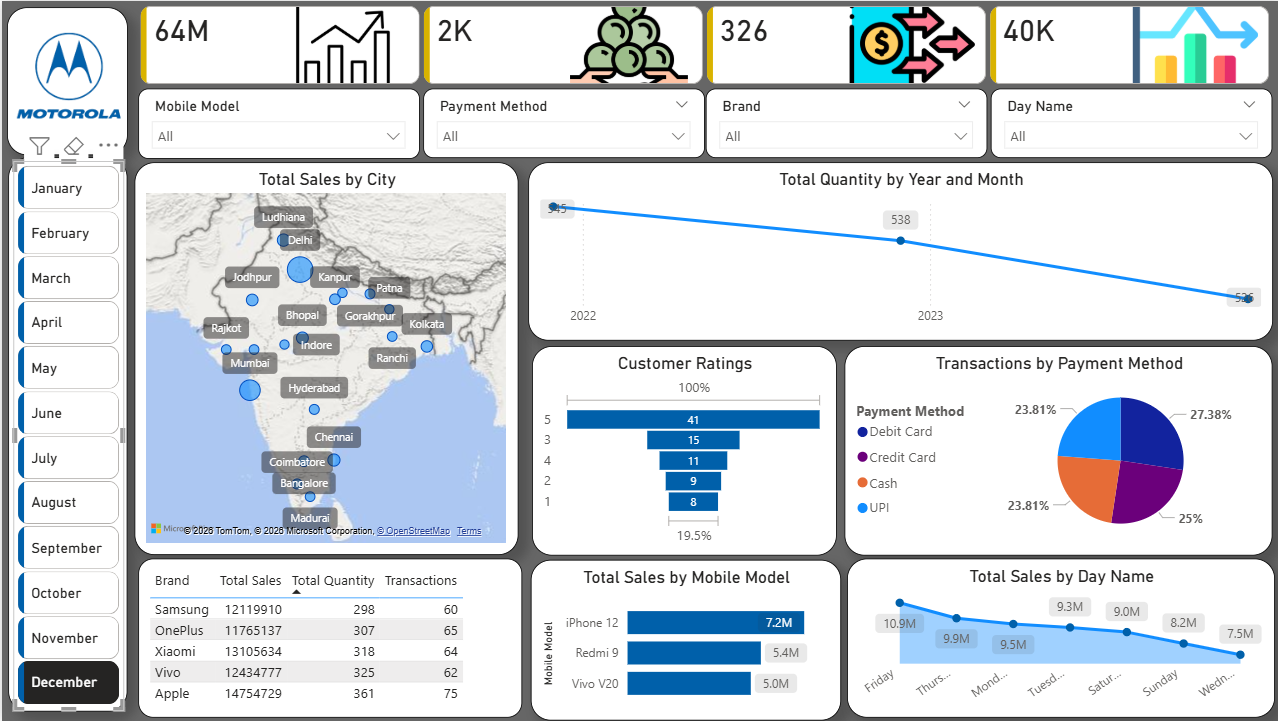

What the dashboard file says about the page in this screenshot:
{"tool":"powerbi","page":{"name":"Page 1","canvas":[1280,720],"ordinal":0},"visuals":[{"type":"shape","box":[5.5,6.9,120.8,148.2],"z":0},{"type":"image","box":[9.6,16.5,113.9,116.6],"z":1000},{"type":"shape","box":[6.9,156.4,119.4,554.4],"z":2000},{"type":"advancedSlicerVisual","fields":{"Values":["Sales_Data.Date.Variation.Date Hierarchy.Month"]},"box":[11,160.5,111.1,548.9],"z":3000},{"type":"cardVisual","fields":{"Data":["Sales_Data.Total Sales","Sales_Data.Total Quantity","Sales_Data.Transactions","Sales_Data.Average"]},"box":[134,5.6,1140.1,83.7],"z":4000},{"type":"map","fields":{"Category":["Sales_Data.City"],"Size":["Sales_Data.Total Sales"]},"box":[132.9,160.8,384.1,393.1],"z":5000},{"type":"lineChart","fields":{"Y":["Sales_Data.Total Quantity"],"Category":["Sales_Data.Date.Variation.Date Hierarchy.Year","Sales_Data.Date.Variation.Date Hierarchy.Month"]},"box":[525.9,160.8,744.8,178.7],"z":6000},{"type":"clusteredBarChart","fields":{"Category":["Sales_Data.Mobile Model"],"Y":["Sales_Data.Total Sales"]},"box":[528.3,558.5,310.1,160.5],"z":7000},{"type":"pieChart","fields":{"Category":["Sales_Data.Payment Method"],"Y":["Sales_Data.Transactions"]},"box":[842.5,344.4,428.1,209.9],"z":8000},{"type":"funnel","title":"Customer Ratings","fields":{"Category":["Sales_Data.Customer Ratings"],"Y":["CountNonNull(Sales_Data.Customer Ratings)"]},"box":[529.7,344.4,304.6,209.9],"z":9000},{"type":"areaChart","fields":{"Category":["Sales_Data.Day Name"],"Y":["Sales_Data.Total Sales"]},"box":[845.3,557.1,428.1,159.2],"z":10000},{"type":"tableEx","fields":{"Values":["Sales_Data.Brand","Sales_Data.Total Sales","Sales_Data.Total Quantity","Sales_Data.Transactions"]},"box":[135.8,557.1,384.2,159.2],"z":11000},{"type":"slicer","fields":{"Values":["Sales_Data.Mobile Model"]},"box":[136.2,87.1,281.4,70.3],"z":12000},{"type":"slicer","fields":{"Values":["Sales_Data.Payment Method"]},"box":[421,87.1,281.4,69.2],"z":13000},{"type":"slicer","fields":{"Values":["Sales_Data.Brand"]},"box":[703.5,87.1,281.4,69.2],"z":14000},{"type":"slicer","fields":{"Values":["Sales_Data.Day Name"]},"box":[988.2,87.1,281.4,69.2],"z":15000}]}

Visuals, with their boxes in screenshot pixels (x1, y1, x2, y2), scaled from the page's 1280x720 canvas onto the 1278x721 screenshot:
shape: x1=5 y1=7 x2=126 y2=155
image: x1=10 y1=17 x2=123 y2=133
shape: x1=7 y1=157 x2=126 y2=712
advancedSlicerVisual - Sales_Data.Date.Variation.Date Hierarchy.Month: x1=11 y1=161 x2=122 y2=710
cardVisual - Sales_Data.Total Sales x Sales_Data.Total Quantity: x1=134 y1=6 x2=1272 y2=89
map - Sales_Data.City x Sales_Data.Total Sales: x1=133 y1=161 x2=516 y2=555
lineChart - Sales_Data.Total Quantity x Sales_Data.Date.Variation.Date Hierarchy.Year: x1=525 y1=161 x2=1269 y2=340
clusteredBarChart - Sales_Data.Mobile Model x Sales_Data.Total Sales: x1=527 y1=559 x2=837 y2=720
pieChart - Sales_Data.Payment Method x Sales_Data.Transactions: x1=841 y1=345 x2=1269 y2=555
"Customer Ratings" funnel: x1=529 y1=345 x2=833 y2=555
areaChart - Sales_Data.Day Name x Sales_Data.Total Sales: x1=844 y1=558 x2=1271 y2=717
tableEx - Sales_Data.Brand x Sales_Data.Total Sales: x1=136 y1=558 x2=519 y2=717
slicer - Sales_Data.Mobile Model: x1=136 y1=87 x2=417 y2=158
slicer - Sales_Data.Payment Method: x1=420 y1=87 x2=701 y2=157
slicer - Sales_Data.Brand: x1=702 y1=87 x2=983 y2=157
slicer - Sales_Data.Day Name: x1=987 y1=87 x2=1268 y2=157
